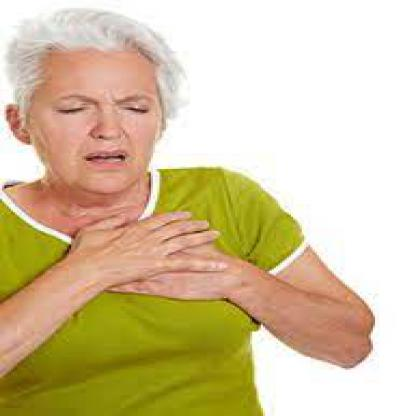pain: (27, 88, 166, 126)
